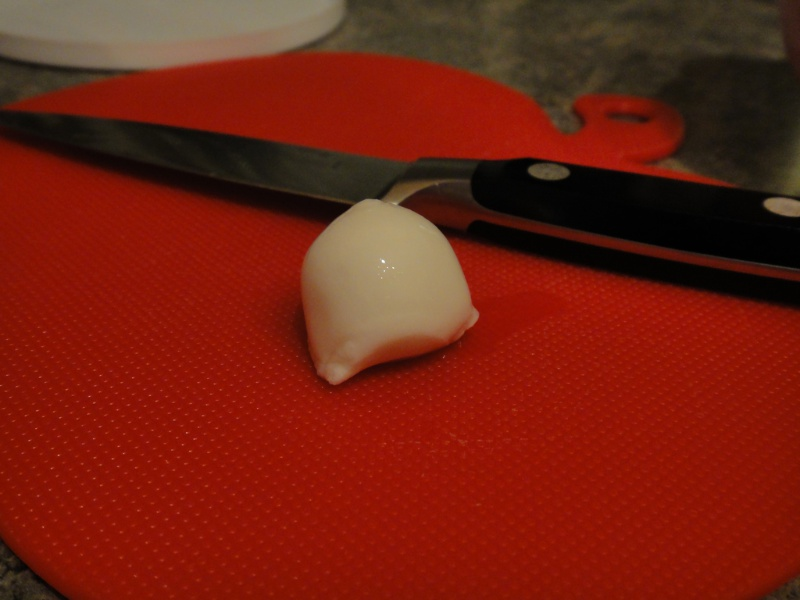knife: (2, 105, 799, 313)
